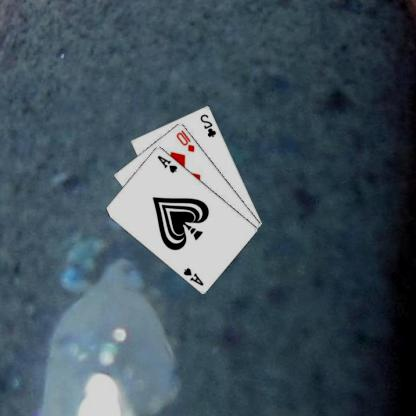10D: (176, 127, 198, 153)
2C: (199, 112, 219, 138)
AS: (182, 265, 207, 287), (156, 153, 180, 174)
